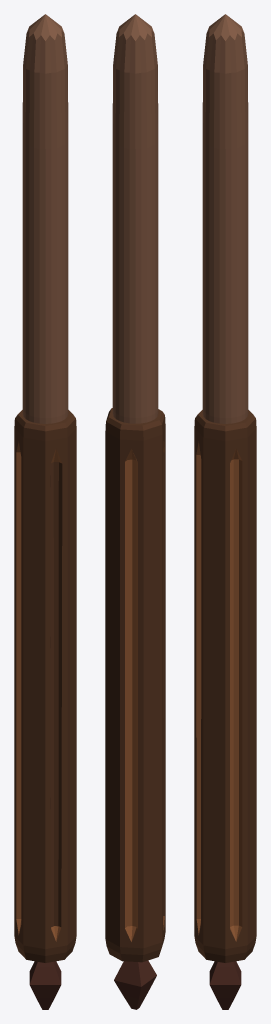
File: Wand 515.glb
3 views of the same model, side by side, from view 1: azimuth 90°, elevation 25°; view 2: azimuth 150°, elevation 25°; view 3: azimuth 270°, elevation 25° (orthographic).
Visible parts, largest first — view 1: GeneratedWand; view 2: GeneratedWand; view 3: GeneratedWand.
Boxes of the visible parts, <box> form: GeneratedWand: <box>14,14,76,1009</box>; GeneratedWand: <box>105,14,165,1009</box>; GeneratedWand: <box>194,14,256,1009</box>.
Size of the model in its own units: 0.0289 by 0.5099 by 0.0289.
